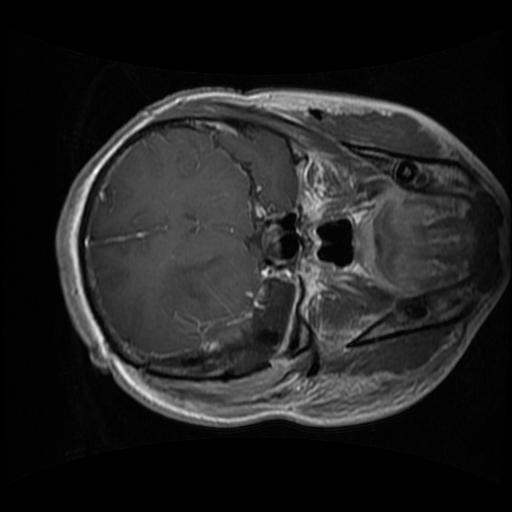glioma: (132, 269, 295, 376)
